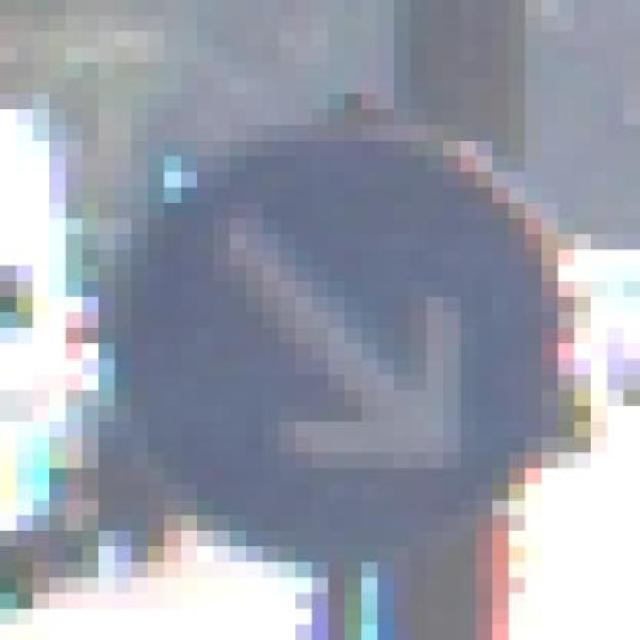Keep-Right: (66, 93, 592, 562)
